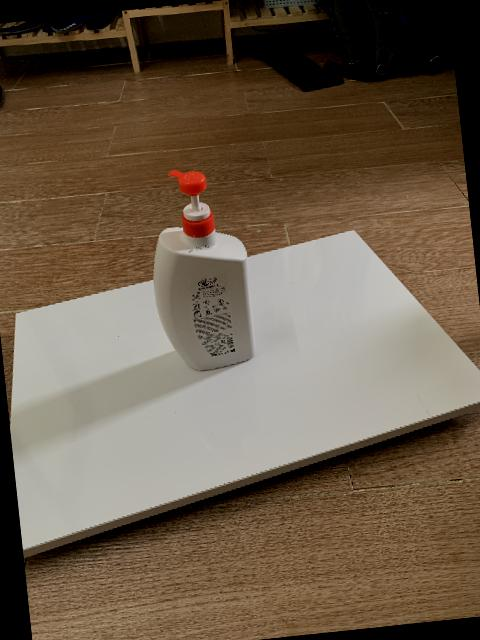life-buoy: (153, 170, 256, 373)
